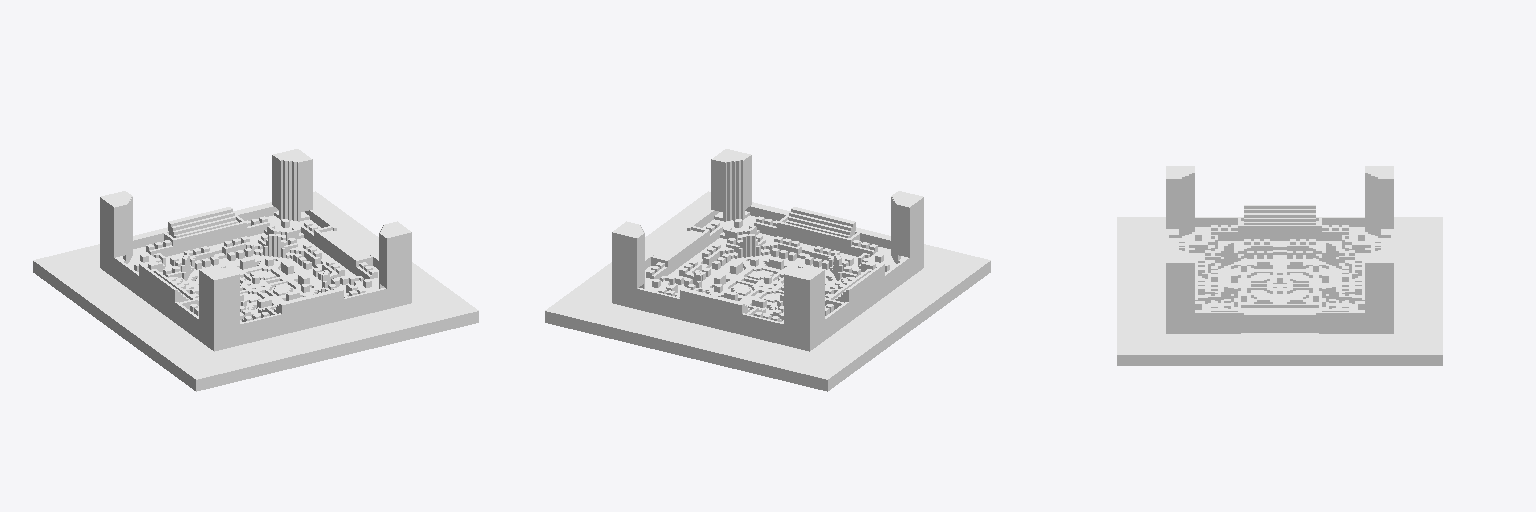
File: map_plaza.obj
3 views of the same model, side by side, from view 1: azimuth 30°, elevation 25°; view 2: azimuth 150°, elevation 25°; view 3: azimuth 270°, elevation 25° (orthographic).
Bounding box in the file's own units: 100 × 28 × 100.